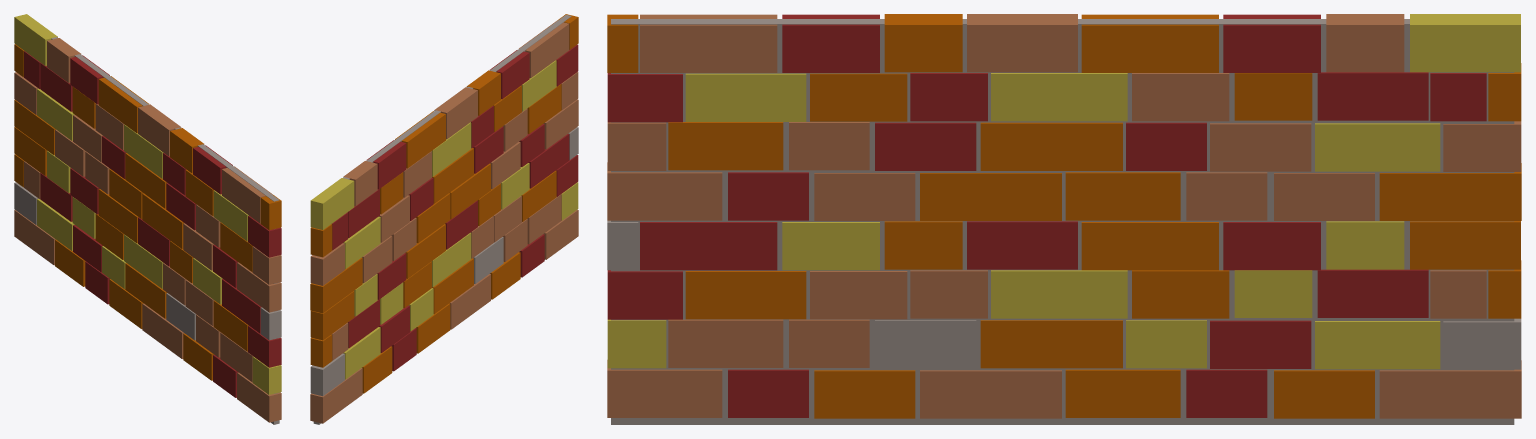
Rendered from murFin.fbx.
3 renders of one model, left to right at view 1: azimuth 30°, elevation 25°; view 2: azimuth 150°, elevation 25°; view 3: azimuth 270°, elevation 25°, orthographic. The views are drawn at different scales.
Visible parts, largest first — view 1: Cube.482, Cube.478, Cube.485, Cube.423, Cube.459, Cube.481, Cube.420, Cube.456, Cube.427, Cube.463, Cube.451, Cube.415 (+61 smaller); view 2: Cube.485, Cube.415, Cube.451, Cube.478, Cube.482, Cube.481, Cube.449, Cube.420, Cube.456, Cube.463, Cube.427, Cube.442 (+61 smaller); view 3: Plane.006, Cube.478, Cube.482, Cube.415, Cube.427, Cube.463, Cube.420, Cube.451, Cube.456, Cube.442, Cube.446, Cube.436 (+61 smaller).
Part boxes in pixels (bbox=[...]): Cube.482: bbox=[98, 76, 149, 133]; Cube.478: bbox=[222, 166, 272, 223]; Cube.485: bbox=[14, 14, 57, 65]; Cube.423: bbox=[237, 372, 281, 422]; Cube.459: bbox=[237, 262, 281, 312]; Cube.481: bbox=[138, 104, 181, 156]; Cube.420: bbox=[142, 303, 184, 358]; Cube.456: bbox=[142, 193, 184, 248]; Cube.427: bbox=[125, 263, 166, 318]; Cube.463: bbox=[125, 153, 167, 208]; Cube.451: bbox=[14, 100, 55, 155]; Cube.415: bbox=[14, 210, 55, 265]; Cube.485: bbox=[310, 178, 354, 229]; Cube.415: bbox=[310, 368, 362, 423]; Cube.451: bbox=[310, 257, 362, 313]; Cube.478: bbox=[519, 20, 569, 78]; Cube.482: bbox=[395, 111, 445, 168]; Cube.481: bbox=[434, 87, 477, 139]; Cube.449: bbox=[310, 291, 354, 340]; Cube.420: bbox=[449, 274, 490, 329]; Cube.456: bbox=[450, 163, 490, 219]; Cube.463: bbox=[432, 148, 473, 203]; Cube.427: bbox=[432, 258, 473, 313]; Cube.442: bbox=[528, 134, 569, 188]; Plane.006: bbox=[611, 19, 1514, 424]; Cube.478: bbox=[640, 14, 777, 72]; Cube.482: bbox=[1081, 14, 1218, 72]; Cube.415: bbox=[1379, 360, 1521, 418]; Cube.427: bbox=[980, 320, 1122, 368]; Cube.463: bbox=[980, 122, 1122, 170]; Cube.420: bbox=[920, 370, 1061, 418]; Cube.451: bbox=[1379, 163, 1521, 220]; Cube.456: bbox=[920, 173, 1061, 220]; Cube.442: bbox=[640, 222, 777, 270]; Cube.446: bbox=[1081, 222, 1218, 270]; Cube.436: bbox=[991, 270, 1127, 318].
Bounding box in the file's own units: 17.73 × 304 × 627.
